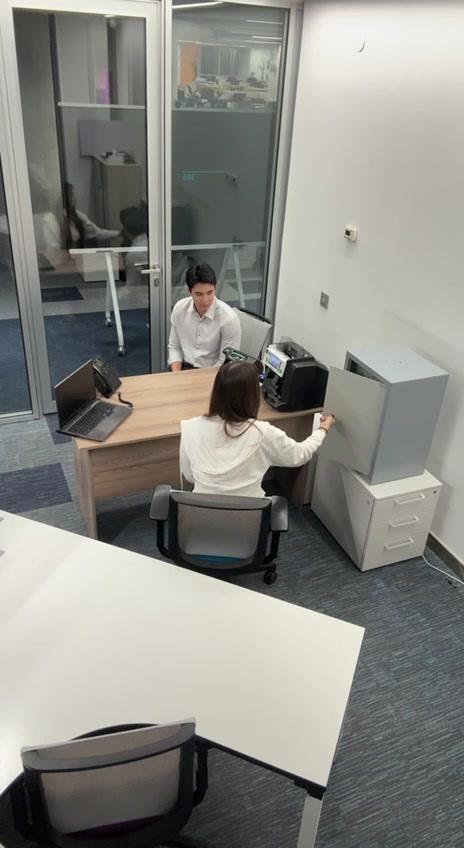counter: (261, 340, 326, 413)
safe_open: (321, 352, 385, 481)
uv_lamp: (220, 346, 254, 368)
